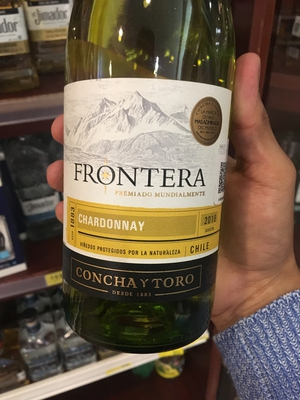frontera chardonnay: (57, 15, 239, 357)
